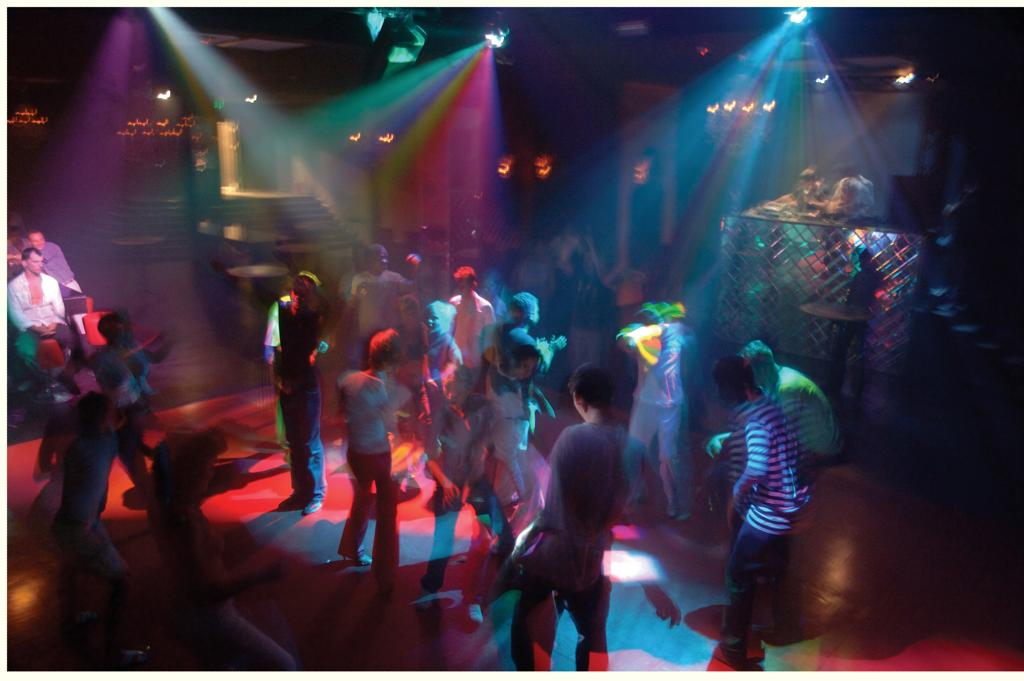face: (290, 283, 311, 308), (423, 307, 442, 332), (107, 323, 124, 344), (26, 255, 43, 273), (373, 251, 388, 269), (31, 233, 45, 249)
